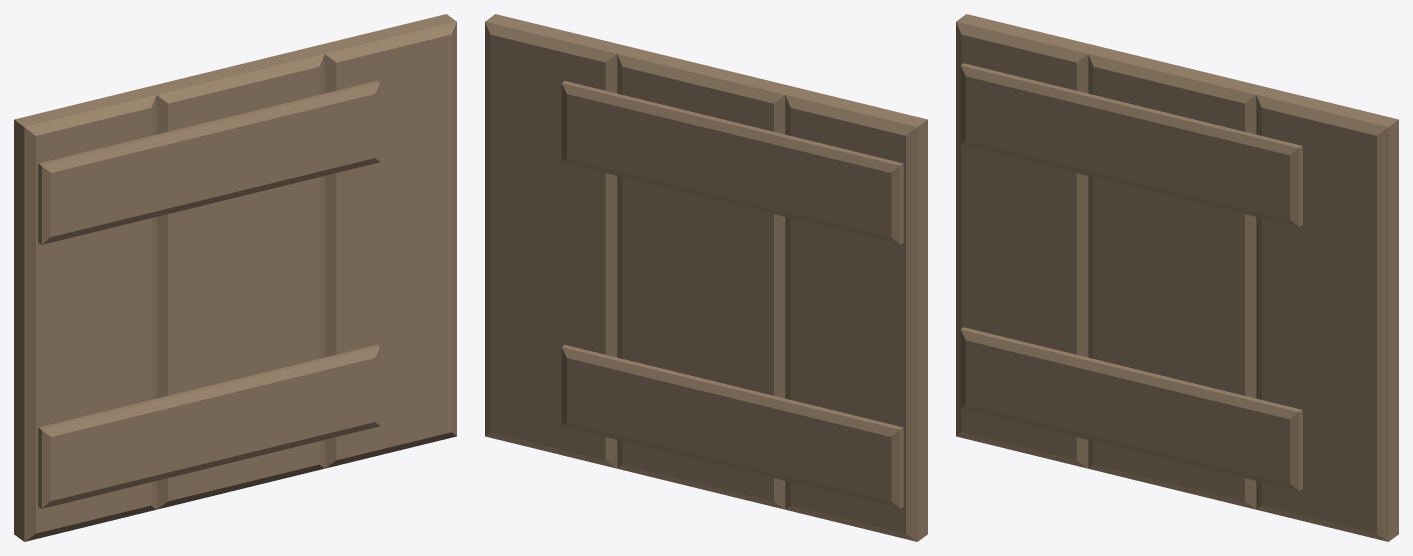
Rendered from fantasy_window_1.fbx.
3 views of the same model, side by side, from view 1: azimuth 30°, elevation 25°; view 2: azimuth 150°, elevation 25°; view 3: azimuth 330°, elevation 25° (orthographic).
Parts seen in each view (by area): view 1: Cube.037; view 2: Cube.037; view 3: Cube.037.
Part boxes in pixels (bbox=[...]): Cube.037: bbox=[14, 14, 456, 541]; Cube.037: bbox=[485, 14, 927, 541]; Cube.037: bbox=[956, 14, 1398, 541].
Bounding box in the file's own units: 120 × 110 × 13.
